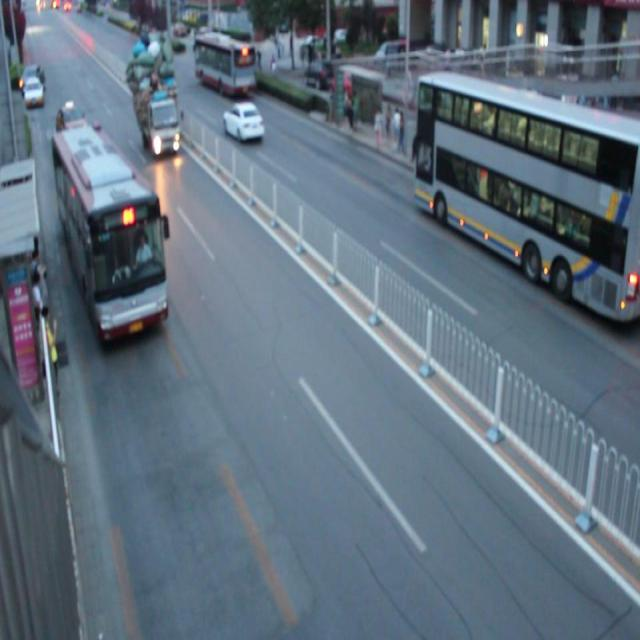bus: (132, 32, 180, 158)
car: (222, 100, 265, 144), (56, 103, 89, 139)
van: (416, 74, 640, 318), (52, 129, 168, 345), (193, 33, 256, 94)
